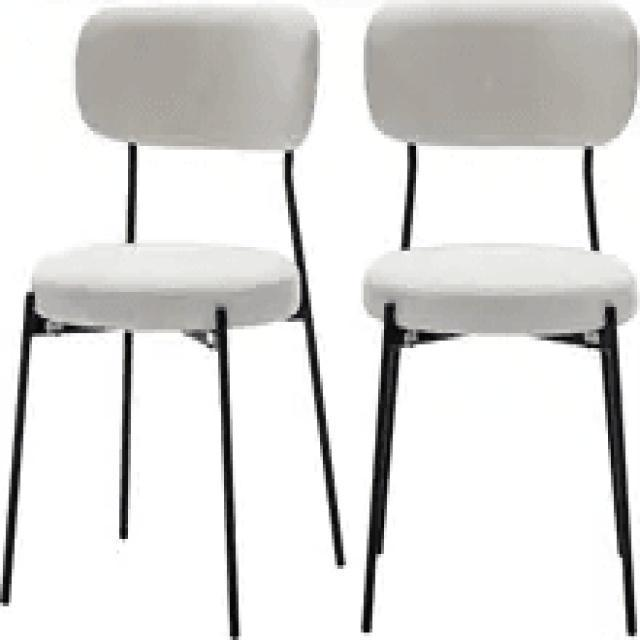chair: (1, 3, 345, 636), (359, 1, 638, 636)
